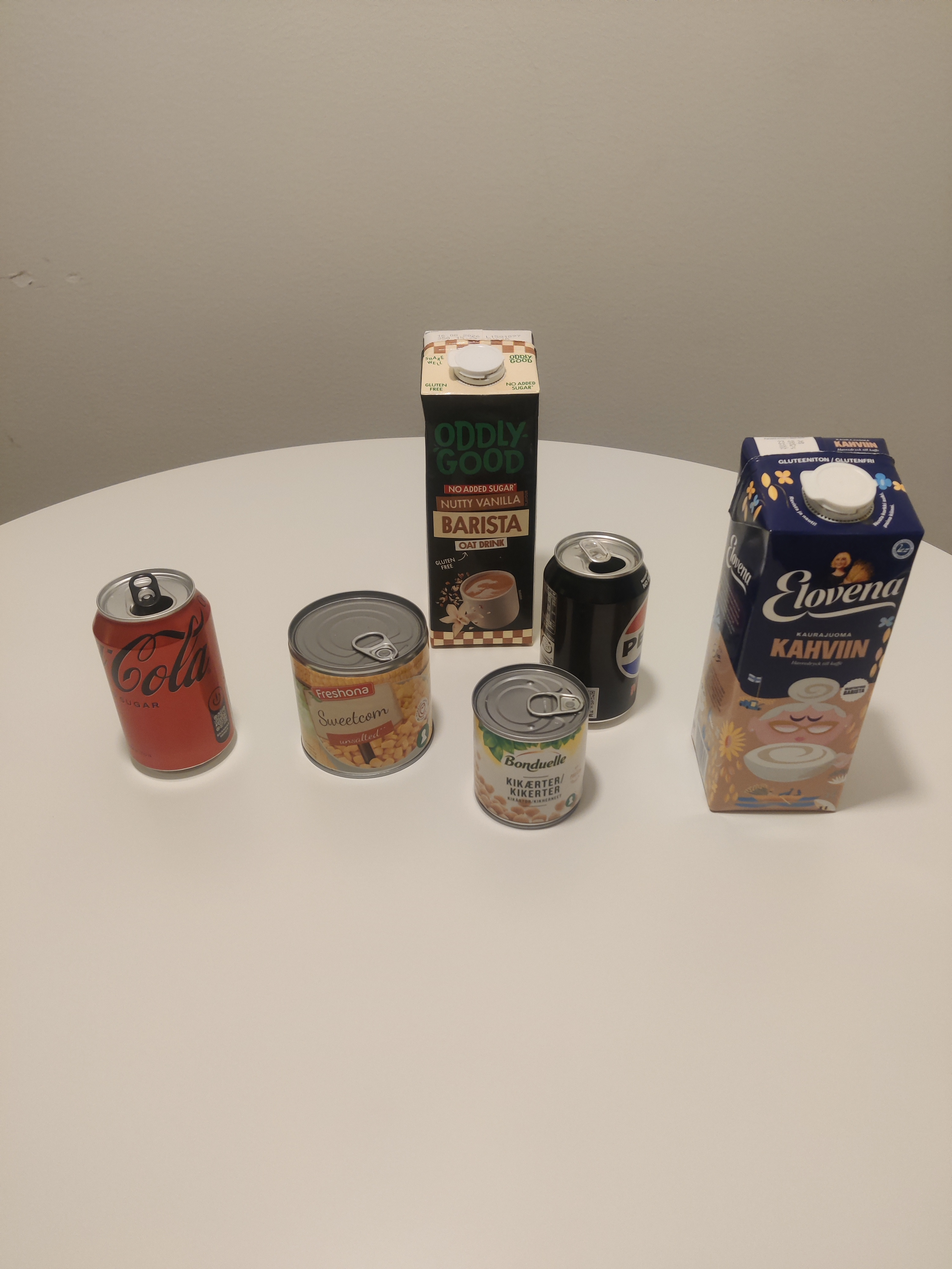Dryckeskartong: (688, 435, 926, 816), (422, 329, 543, 653)
Konservburk: (287, 591, 434, 779), (471, 665, 594, 832)
Pantburk: (91, 567, 237, 776), (525, 530, 652, 735)
